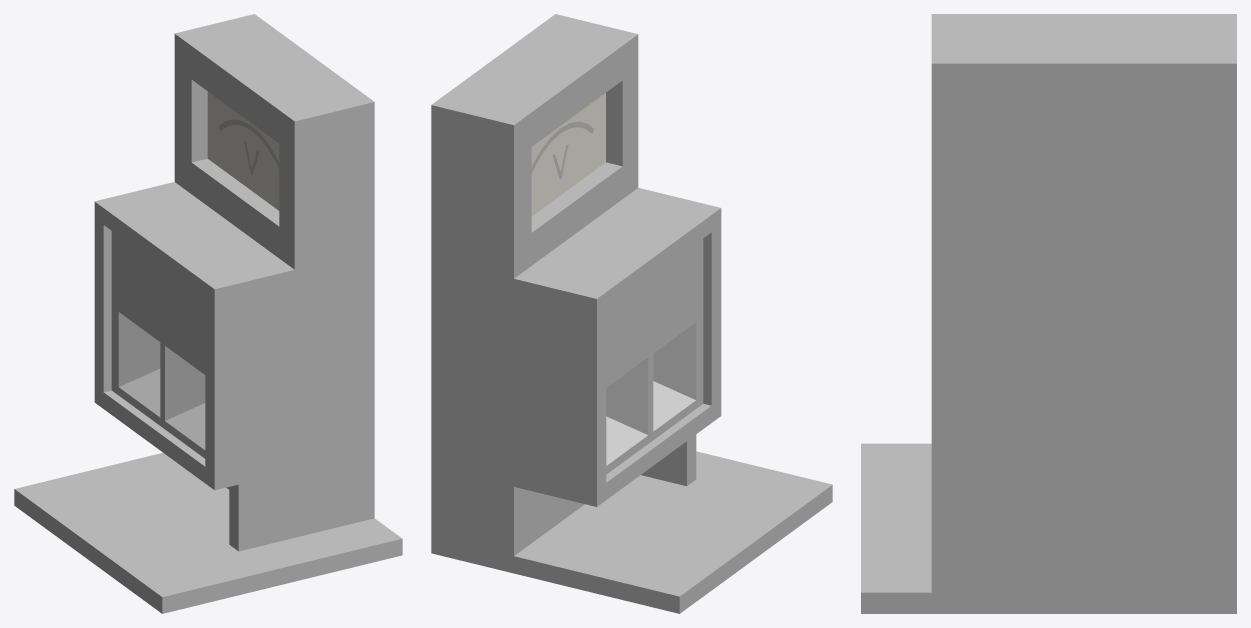
File: LightGreyMetalMechSmallPowerSocketwGauge1.fbx
3 views of the same model, side by side, from view 1: azimuth 30°, elevation 25°; view 2: azimuth 150°, elevation 25°; view 3: azimuth 270°, elevation 25° (orthographic). The views are drawn at different scales.
Visible parts, largest first — view 1: LightGreyMetalMechSmallPowerSocketwGauge1; view 2: LightGreyMetalMechSmallPowerSocketwGauge1; view 3: LightGreyMetalMechSmallPowerSocketwGauge1.
Boxes of the visible parts, box(x1,y1,x2,y2) form: LightGreyMetalMechSmallPowerSocketwGauge1: box(14, 14, 402, 613); LightGreyMetalMechSmallPowerSocketwGauge1: box(431, 14, 832, 613); LightGreyMetalMechSmallPowerSocketwGauge1: box(861, 14, 1236, 613).
Bounding box in the file's own units: 150 × 259 × 160.
